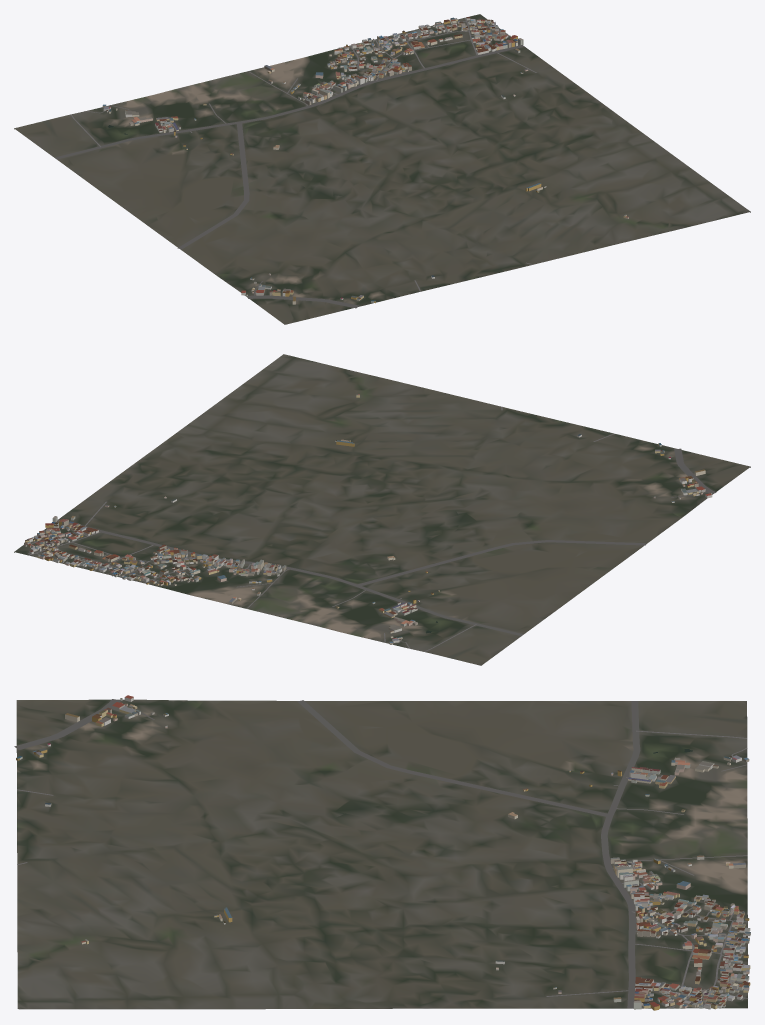
3 views of the same model, one above another, from view 1: azimuth 30°, elevation 25°; view 2: azimuth 150°, elevation 25°; view 3: azimuth 270°, elevation 25° (orthographic). The views are drawn at different scales.
Visible parts, largest first — view 1: ground, buildings, roads; view 2: ground, buildings, roads; view 3: ground, buildings, roads.
Boxes of the visible parts, x1,y1,x2,y2 form: ground: [14, 14, 750, 324]; buildings: [102, 17, 628, 304]; roads: [55, 17, 536, 308]; ground: [14, 354, 750, 665]; buildings: [23, 394, 712, 644]; roads: [28, 406, 716, 651]; ground: [16, 699, 747, 1009]; buildings: [16, 695, 750, 1010]; roads: [14, 699, 747, 1008].
Size of the model in its own units: 1412 by 21.12 by 1414.
